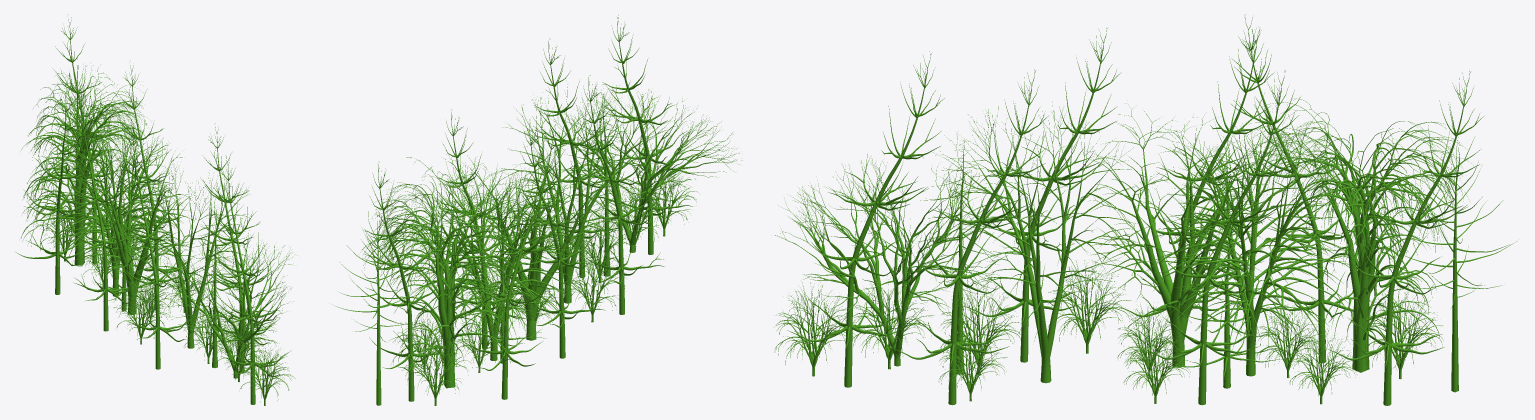
File: seaweeds.glb
3 renders of one model, left to right at view 1: azimuth 30°, elevation 25°; view 2: azimuth 150°, elevation 25°; view 3: azimuth 270°, elevation 25°, orthographic. The views are drawn at different scales.
Parts seen in each view (by area): view 1: tree.004, tree.007, tree.006, tree.008, tree.005, tree.020, tree.009, tree.021, tree.024, tree.019, tree.022, tree.023 (+11 smaller); view 2: tree.004, tree.007, tree.005, tree.008, tree.006, tree.024, tree.020, tree.021, tree.023, tree.009, tree.019, tree.022 (+10 smaller); view 3: tree.004, tree.007, tree.006, tree.005, tree.008, tree.019, tree.023, tree.022, tree.009, tree.020, tree.024, tree.021 (+13 smaller).
Boxes of the visible parts, bbox=[...] form: tree.004: bbox=[21, 65, 148, 265]; tree.007: bbox=[44, 122, 189, 296]; tree.006: bbox=[61, 140, 199, 314]; tree.008: bbox=[155, 235, 295, 378]; tree.005: bbox=[125, 159, 252, 348]; tree.020: bbox=[116, 121, 193, 369]; tree.009: bbox=[212, 155, 291, 404]; tree.021: bbox=[64, 83, 142, 331]; tree.024: bbox=[16, 88, 89, 294]; tree.019: bbox=[199, 123, 279, 372]; tree.022: bbox=[114, 60, 194, 310]; tree.023: bbox=[54, 14, 125, 263]; tree.004: bbox=[360, 154, 522, 388]; tree.007: bbox=[406, 164, 575, 360]; tree.005: bbox=[497, 84, 668, 303]; tree.008: bbox=[549, 89, 742, 252]; tree.006: bbox=[455, 137, 622, 340]; tree.024: bbox=[462, 121, 564, 399]; tree.020: bbox=[572, 75, 664, 314]; tree.021: bbox=[512, 119, 604, 358]; tree.023: bbox=[362, 162, 453, 401]; tree.009: bbox=[601, 15, 692, 254]; tree.019: bbox=[532, 38, 623, 277]; tree.022: bbox=[435, 109, 523, 348]; tree.004: bbox=[1237, 98, 1473, 372]; tree.007: bbox=[1146, 122, 1357, 376]; tree.006: bbox=[1087, 106, 1268, 367]; tree.005: bbox=[933, 101, 1137, 383]; tree.008: bbox=[775, 158, 1012, 366]; tree.019: bbox=[891, 69, 1048, 405]; tree.023: bbox=[1327, 71, 1483, 405]; tree.022: bbox=[1142, 71, 1299, 405]; tree.009: bbox=[787, 51, 944, 387]; tree.020: bbox=[963, 28, 1121, 362]; tree.024: bbox=[1230, 14, 1383, 363]; tree.021: bbox=[1116, 26, 1274, 323].
Size of the model in its own units: 0.3886 by 0.5964 by 1.2.
